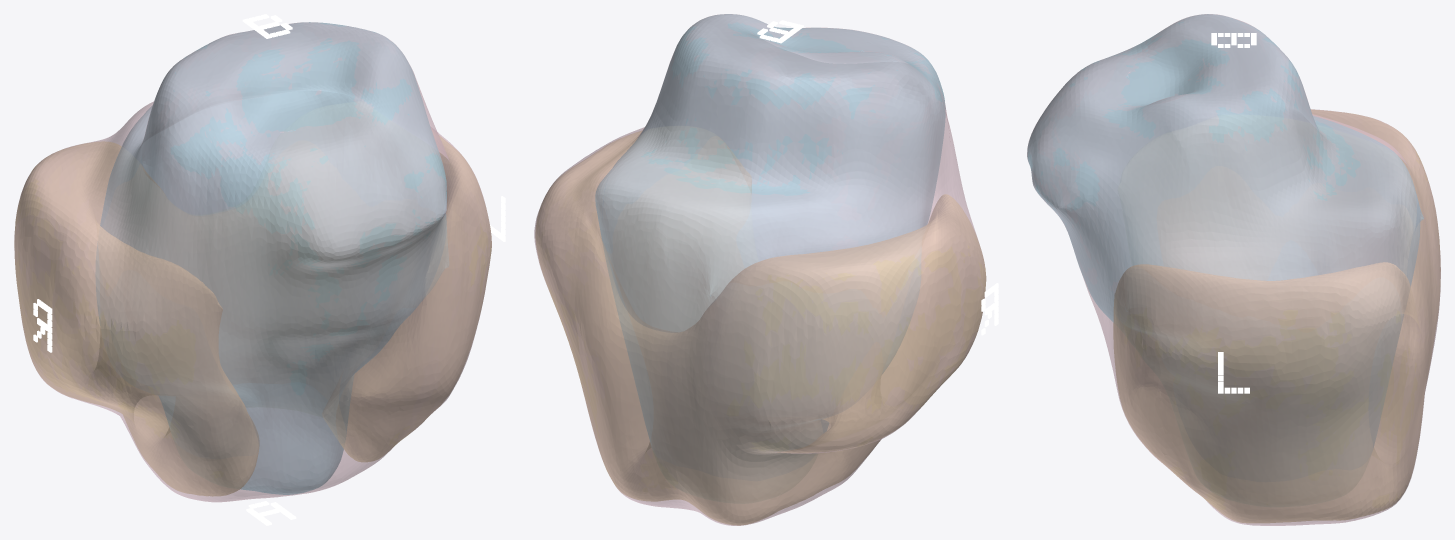
3 renders of one model, left to right at view 1: azimuth 30°, elevation 25°; view 2: azimuth 150°, elevation 25°; view 3: azimuth 270°, elevation 25°, orthographic. The views are drawn at different scales.
Parts seen in each view (by area): view 1: prostate_gland, transition_zone, peripheral_zone, pv_ar_marker_B, pv_ar_marker_R; view 2: prostate_gland, peripheral_zone, transition_zone; view 3: prostate_gland, transition_zone, peripheral_zone.
Boxes of the visible parts, left/top/right/bottom form: prostate_gland: left=14, top=22, right=491, bottom=502; transition_zone: left=95, top=22, right=448, bottom=494; peripheral_zone: left=14, top=135, right=491, bottom=496; pv_ar_marker_B: left=242, top=14, right=292, bottom=38; pv_ar_marker_R: left=33, top=299, right=52, bottom=352; prostate_gland: left=534, top=14, right=985, bottom=525; peripheral_zone: left=535, top=131, right=986, bottom=525; transition_zone: left=595, top=14, right=945, bottom=445; prostate_gland: left=1027, top=14, right=1440, bottom=525; transition_zone: left=1027, top=14, right=1423, bottom=449; peripheral_zone: left=1113, top=109, right=1440, bottom=522.
Size of the model in its own units: 0.0417 by 0.0428 by 0.035.
